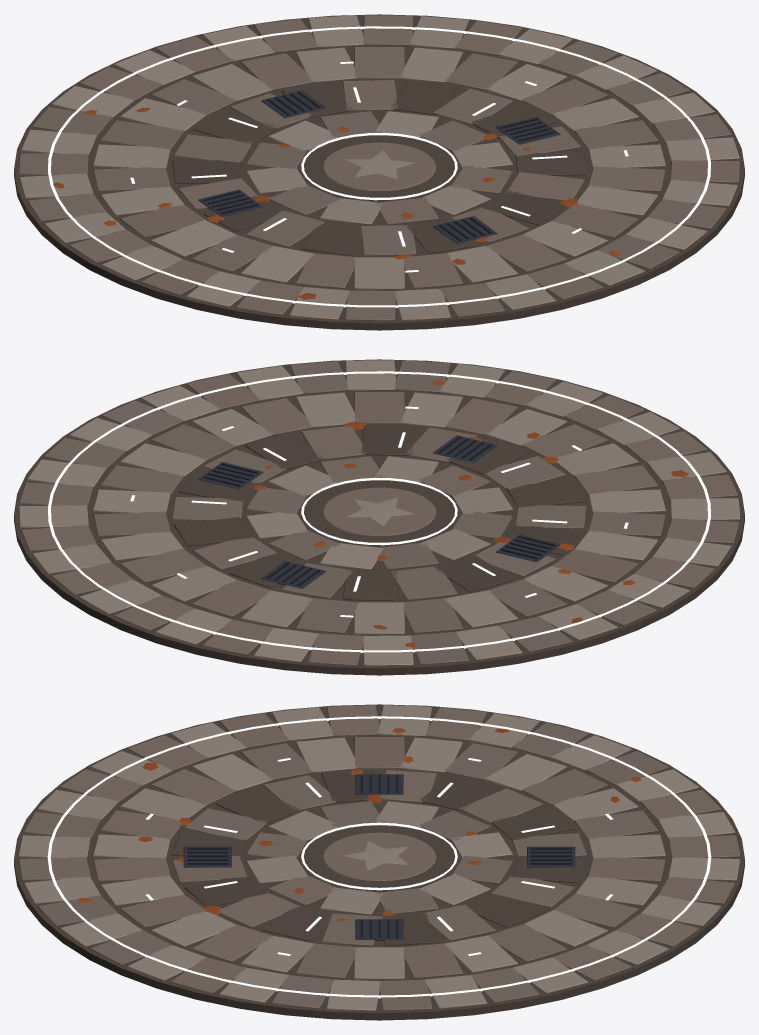
Rendered from mt_floor_4.glb.
3 views of the same model, one above another, from view 1: azimuth 30°, elevation 25°; view 2: azimuth 150°, elevation 25°; view 3: azimuth 270°, elevation 25° (orthographic).
Visible parts, largest first — view 1: body, rune_glow; view 2: body, rune_glow; view 3: body, rune_glow.
Boxes of the visible parts, x1,y1,x2,y2 form: body: (14, 14, 744, 330); rune_glow: (48, 26, 710, 307); body: (14, 359, 744, 675); rune_glow: (48, 371, 710, 652); body: (14, 704, 744, 1020); rune_glow: (47, 716, 711, 998).
Size of the model in its own units: 33.2 by 0.56 by 33.2.
